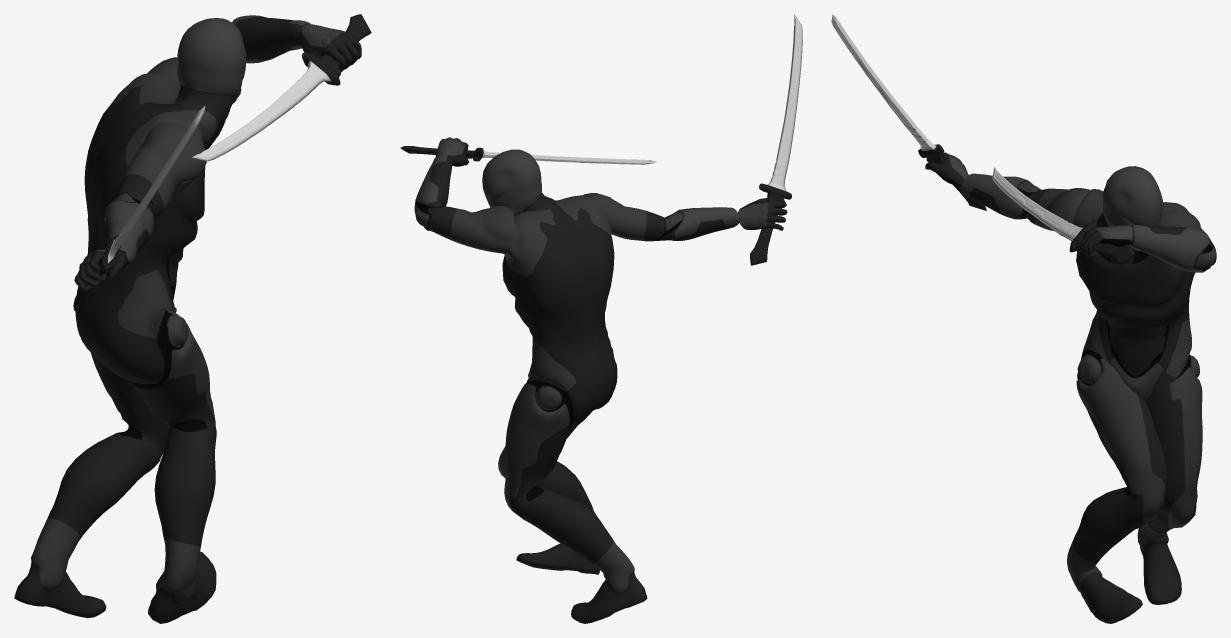
3 views of the same model, side by side, from view 1: azimuth 30°, elevation 25°; view 2: azimuth 150°, elevation 25°; view 3: azimuth 270°, elevation 25° (orthographic). The views are drawn at different scales.
Visible parts, largest first — view 1: Cyborg_Ninja_Killer, Sword_l, Sword_l001; view 2: Cyborg_Ninja_Killer, Sword_l001, Sword_l; view 3: Cyborg_Ninja_Killer, Sword_l, Sword_l001.
Boxes of the visible parts, x1,y1,x2,y2 form: Cyborg_Ninja_Killer: (14,15,361,623); Sword_l: (191,14,371,161); Sword_l001: (73,105,205,310); Cyborg_Ninja_Killer: (414,137,787,623); Sword_l001: (750,14,802,265); Sword_l: (400,146,656,164); Cyborg_Ninja_Killer: (925,152,1216,623); Sword_l: (992,167,1134,263); Sword_l001: (831,14,986,210).
Bounding box in the file's own units: 120 × 194 × 122.
Materials: 2 (2 with a texture image).
